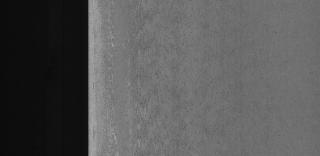silk spot: (123, 2, 215, 154)
